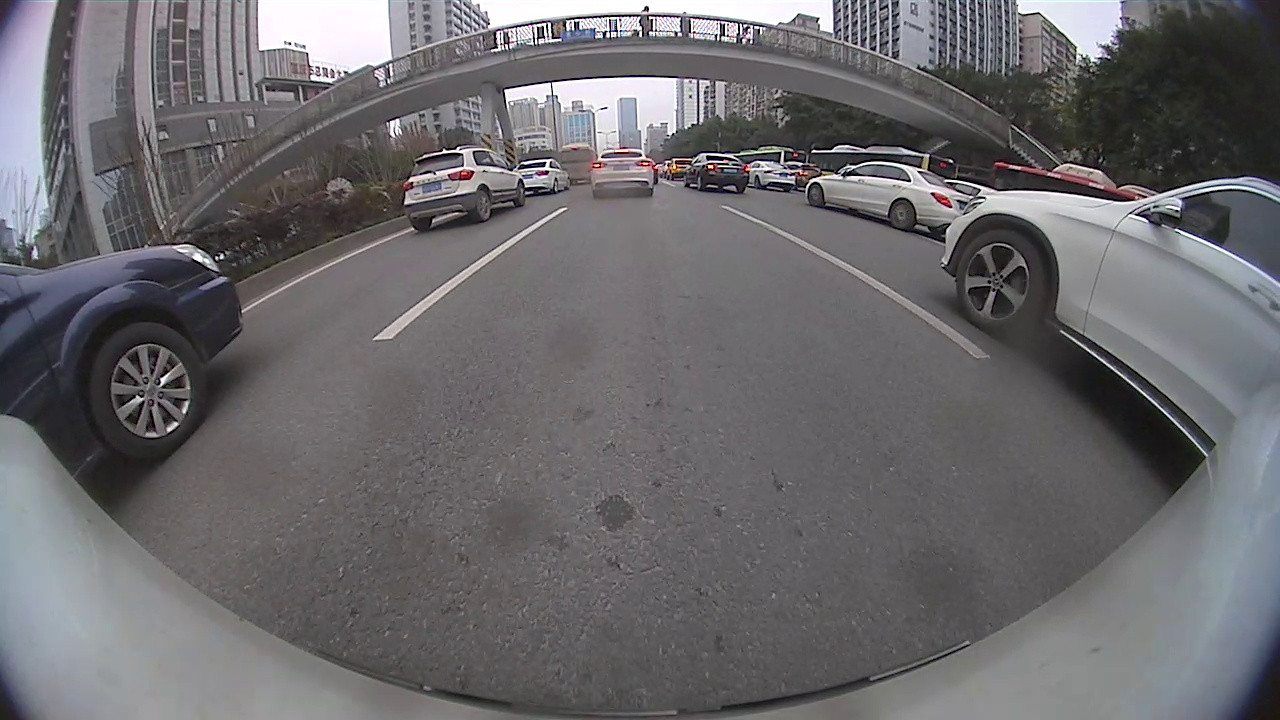car: (946, 174, 1279, 464), (2, 245, 245, 477), (805, 156, 960, 230), (408, 143, 527, 229), (593, 147, 657, 198), (683, 155, 754, 195)
front: (91, 320, 208, 461), (955, 229, 1048, 336), (806, 183, 825, 208), (514, 180, 527, 208)
rear: (888, 200, 914, 228), (474, 189, 492, 221)
